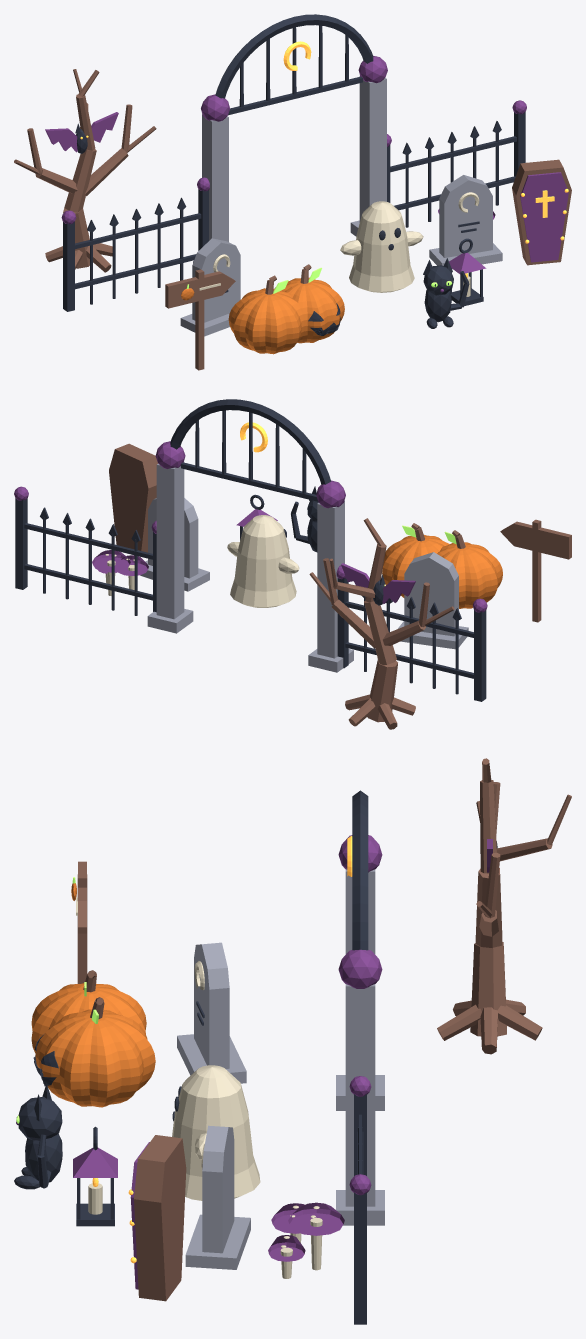
File: moonlit-mischief-moon-gate-graveyard-21aa6409__2289.glb
The picture shows the model from 3 angles, top to bottom: view 1: azimuth 30°, elevation 25°; view 2: azimuth 150°, elevation 25°; view 3: azimuth 270°, elevation 25°; orthographic projection. The views are drawn at different scales.
Visible parts, largest first — view 1: 000-graveyard-arch/0, 003-crooked-tree/0, 009-friendly-ghost/0, 001-gothic-fence/0, 000-graveyard-arch/2, 005-gravestone/0, 008-harvest-pumpkin/0, 002-gothic-fence/0, 006-coffin/1, 004-gravestone/0, 007-jack-o-lantern/0, 011-wooden-signpost/0 (+6 smaller); view 2: 000-graveyard-arch/0, 003-crooked-tree/0, 009-friendly-ghost/0, 002-gothic-fence/0, 000-graveyard-arch/2, 001-gothic-fence/0, 006-coffin/0, 004-gravestone/0, 008-harvest-pumpkin/0, 011-wooden-signpost/0, 005-gravestone/0, 007-jack-o-lantern/0 (+4 smaller); view 3: 003-crooked-tree/0, 007-jack-o-lantern/0, 000-graveyard-arch/0, 006-coffin/0, 009-friendly-ghost/0, 005-gravestone/0, 004-gravestone/0, 010-black-cat/0, 008-harvest-pumpkin/0, 002-gothic-fence/0, 000-graveyard-arch/2, 013-toadstool-cluster/1 (+6 smaller).
Boxes of the visible parts, x1,y1,x2,y2 form: 000-graveyard-arch/0: (193,76,386,262); 003-crooked-tree/0: (14,69,156,272); 009-friendly-ghost/0: (340,201,423,292); 001-gothic-fence/0: (63,189,208,311); 000-graveyard-arch/2: (215,14,373,115); 005-gravestone/0: (429,175,502,269); 008-harvest-pumpkin/0: (228,288,304,354); 002-gothic-fence/0: (387,112,525,227); 006-coffin/1: (520,172,568,262); 004-gravestone/0: (180,238,240,336); 007-jack-o-lantern/0: (274,277,344,343); 011-wooden-signpost/0: (165,269,235,370); 000-graveyard-arch/0: (147,462,353,672); 003-crooked-tree/0: (309,518,454,729); 009-friendly-ghost/0: (227,515,299,607); 002-gothic-fence/0: (15,498,156,615); 000-graveyard-arch/2: (170,399,331,501); 001-gothic-fence/0: (337,578,486,701); 006-coffin/0: (109,443,157,552); 004-gravestone/0: (398,552,468,649); 008-harvest-pumpkin/0: (437,542,502,608); 011-wooden-signpost/0: (500,519,571,622); 005-gravestone/0: (140,498,209,591); 007-jack-o-lantern/0: (382,535,449,597); 003-crooked-tree/0: (437,758,571,1054); 007-jack-o-lantern/0: (35,1009,155,1107); 000-graveyard-arch/0: (336,869,384,1225); 006-coffin/0: (134,1135,186,1301); 009-friendly-ghost/0: (172,1065,260,1200); 005-gravestone/0: (185,1125,250,1269); 004-gravestone/0: (177,942,246,1083); 010-black-cat/0: (14,1083,62,1189); 008-harvest-pumpkin/0: (31,983,146,1053); 002-gothic-fence/0: (354,1094,366,1324); 000-graveyard-arch/2: (352,790,368,950); 013-toadstool-cluster/1: (268,1202,344,1261).
Size of the model in its own units: 6.28 by 3.03 by 4.32.
